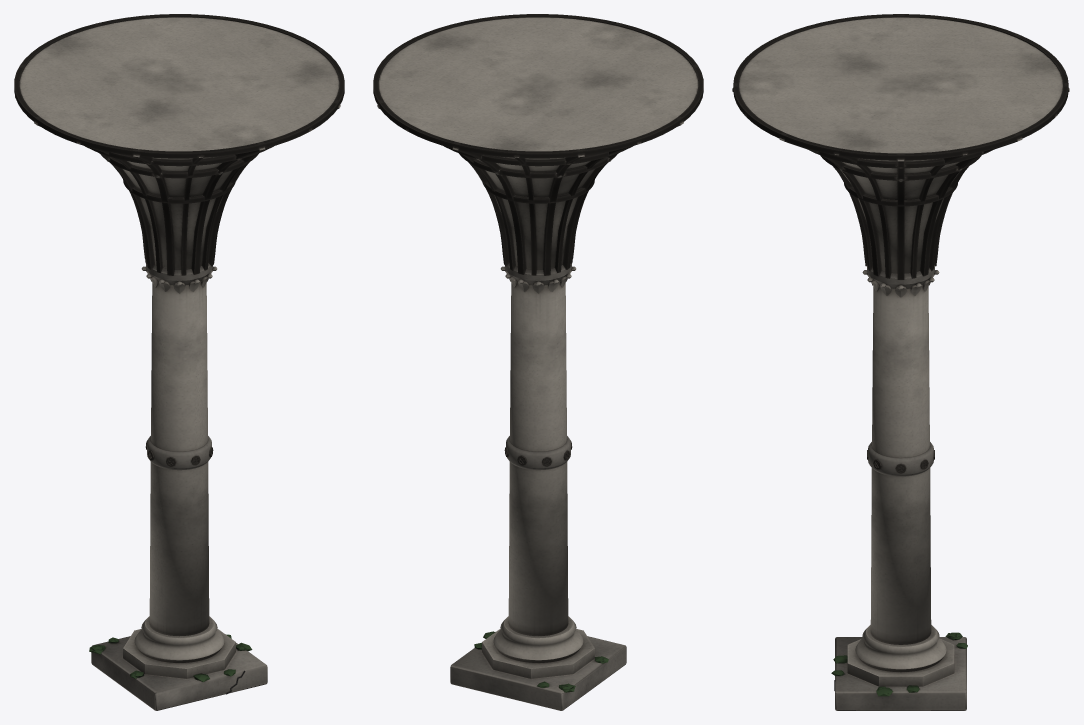
File: PillarFanVault.fbx
The picture shows the model from 3 angles, left to right: view 1: azimuth 30°, elevation 25°; view 2: azimuth 150°, elevation 25°; view 3: azimuth 270°, elevation 25°; orthographic projection.
Parts seen in each view (by area): view 1: PillarFanVault; view 2: PillarFanVault; view 3: PillarFanVault.
Part boxes in pixels (bbox=[...]): PillarFanVault: bbox=[14, 14, 344, 710]; PillarFanVault: bbox=[373, 14, 703, 710]; PillarFanVault: bbox=[732, 14, 1069, 710].
Bounding box in the file's own units: 613 × 1202 × 613.
